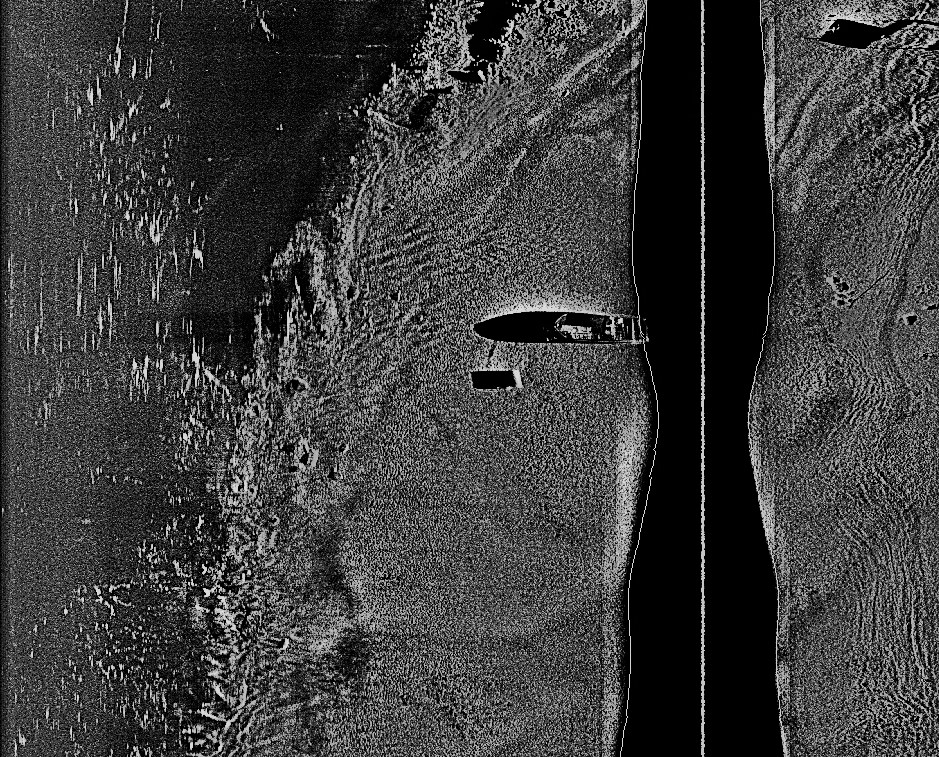ship: (542, 305, 650, 347), (503, 368, 530, 389)
